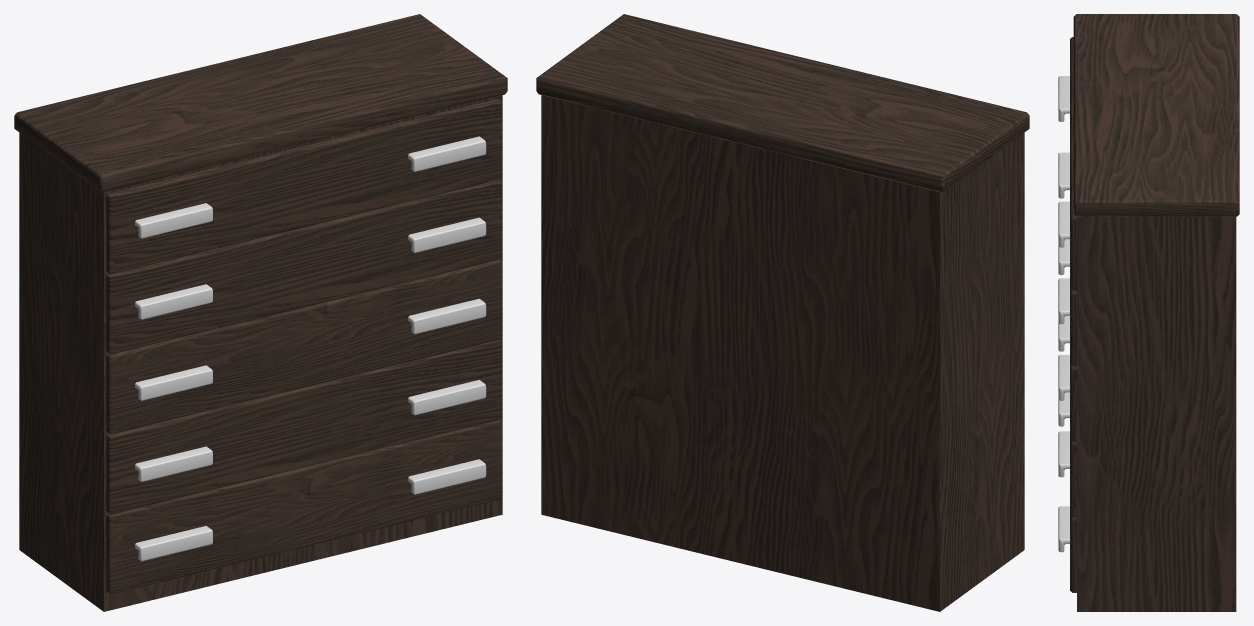
Rendered from dresser_013.fbx.
3 views of the same model, side by side, from view 1: azimuth 30°, elevation 25°; view 2: azimuth 150°, elevation 25°; view 3: azimuth 270°, elevation 25° (orthographic). The views are drawn at different scales.
Parts seen in each view (by area): view 1: dresser_013; view 2: dresser_013; view 3: dresser_013.
Boxes of the visible parts, left/top/right/bottom form: dresser_013: left=14, top=14, right=507, bottom=611; dresser_013: left=536, top=14, right=1029, bottom=611; dresser_013: left=1058, top=14, right=1239, bottom=611.
Bounding box in the file's own units: 123 × 49.98 × 126.
